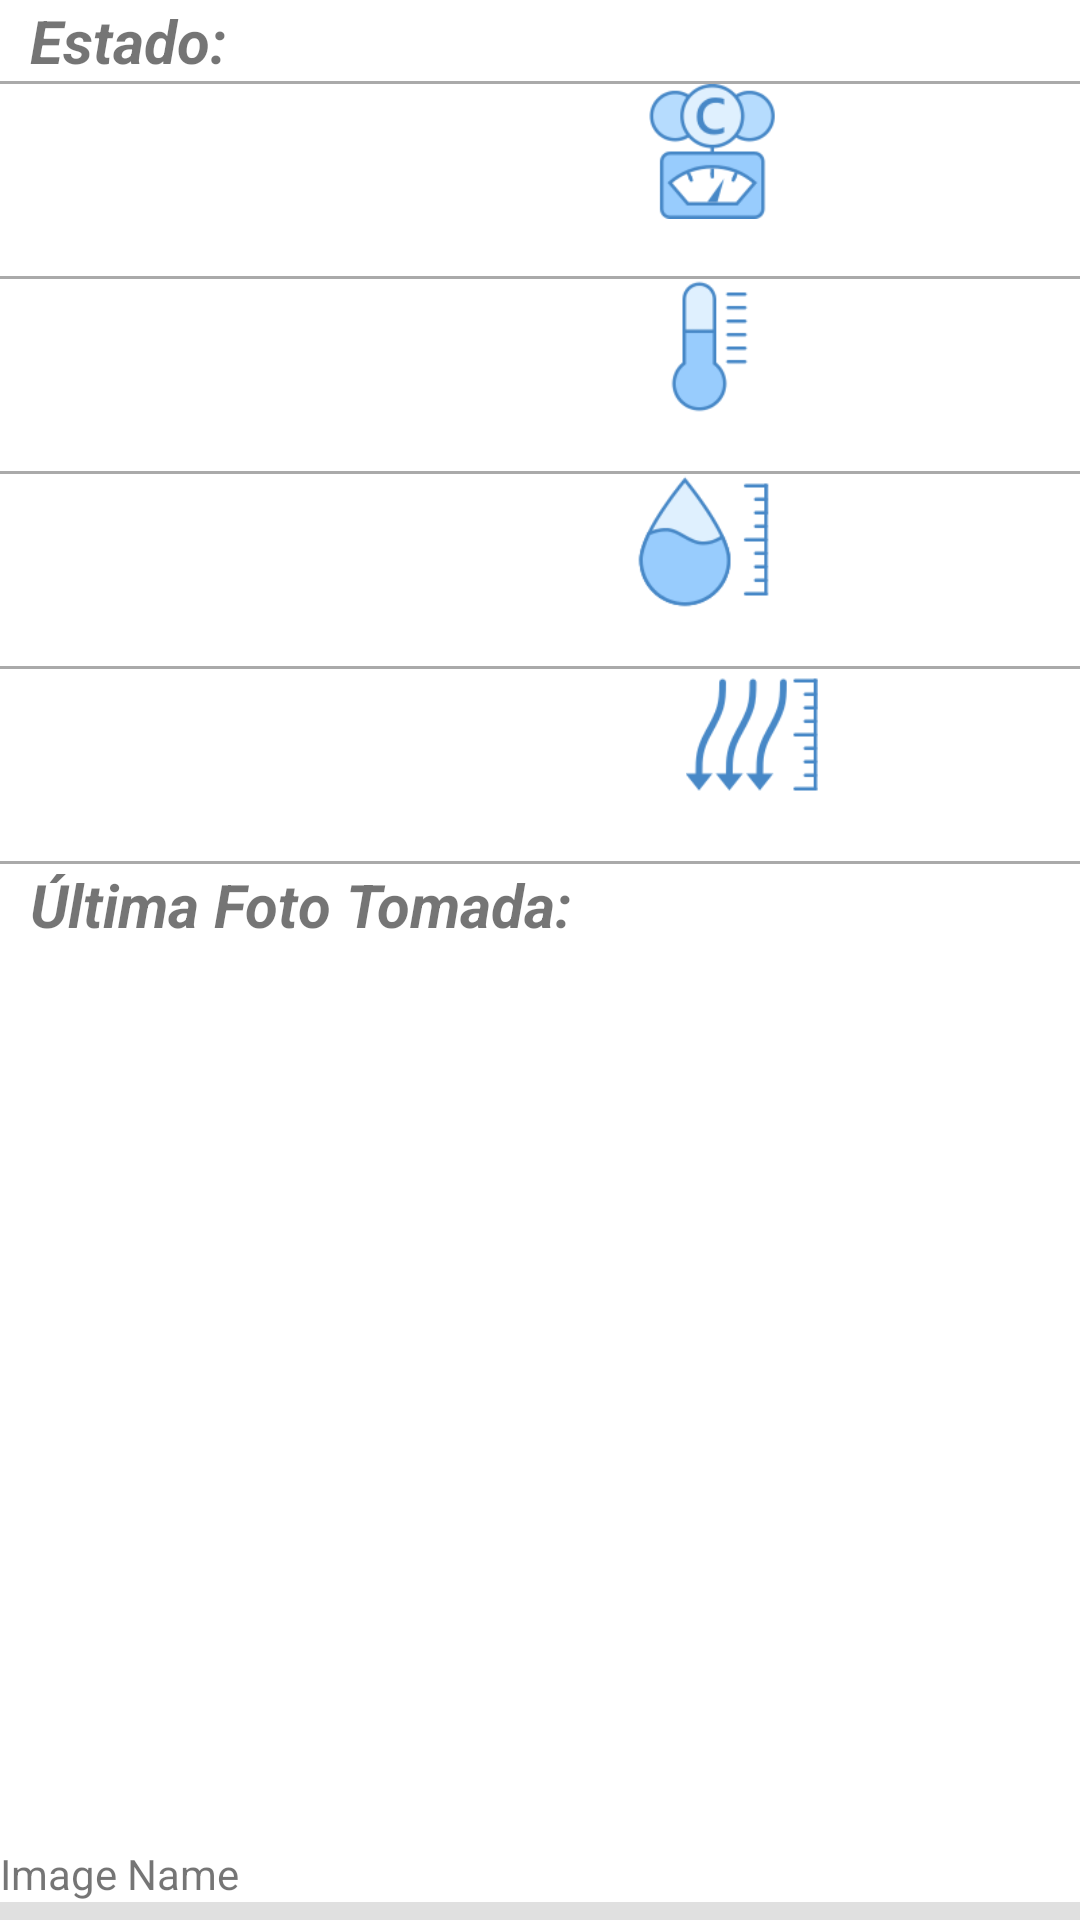

Named icons in this screenshot (1080px x 1920px) and their centers, point (x, y):
hume: point (703, 542)
